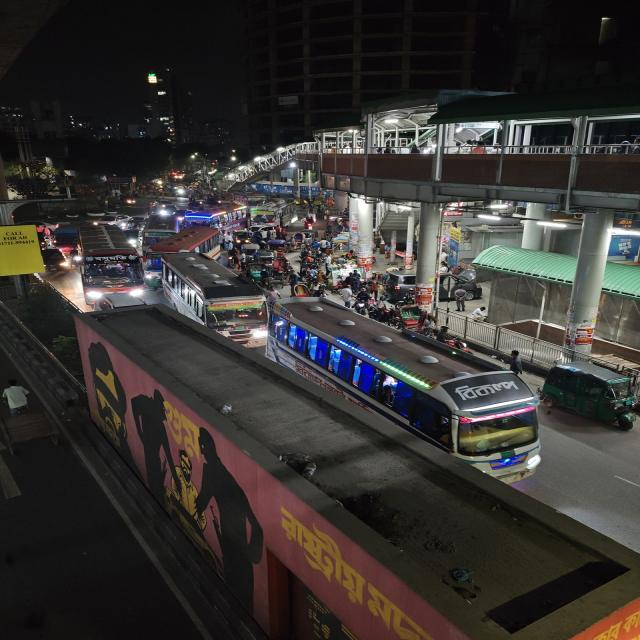bus: (266, 314, 548, 482), (161, 254, 272, 346), (74, 232, 150, 306), (138, 225, 224, 267), (0, 224, 49, 281), (186, 210, 253, 234), (142, 215, 177, 245), (252, 205, 298, 224), (230, 191, 266, 208)
cng: (544, 359, 640, 433)
motorcycle: (432, 325, 476, 357)
pedestrian: (507, 348, 528, 376)
rickshaw: (399, 304, 437, 334), (244, 262, 273, 286)
truck: (51, 224, 79, 250)
